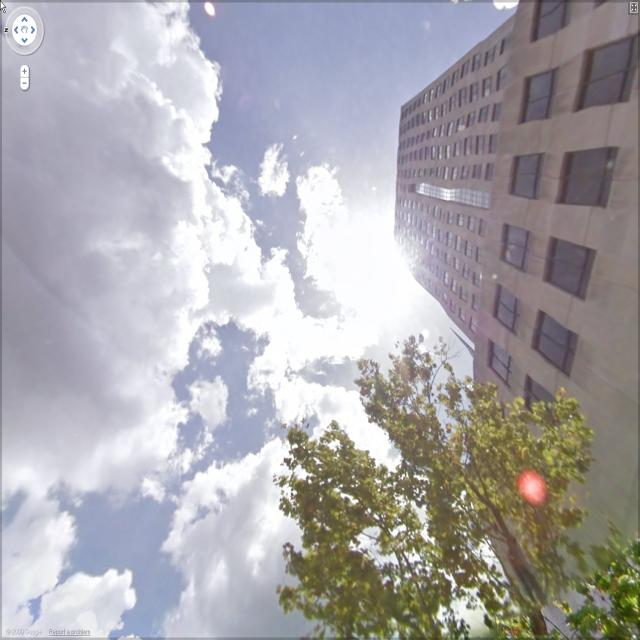b_1: (378, 61, 640, 410)
b_2: (297, 399, 637, 640)
